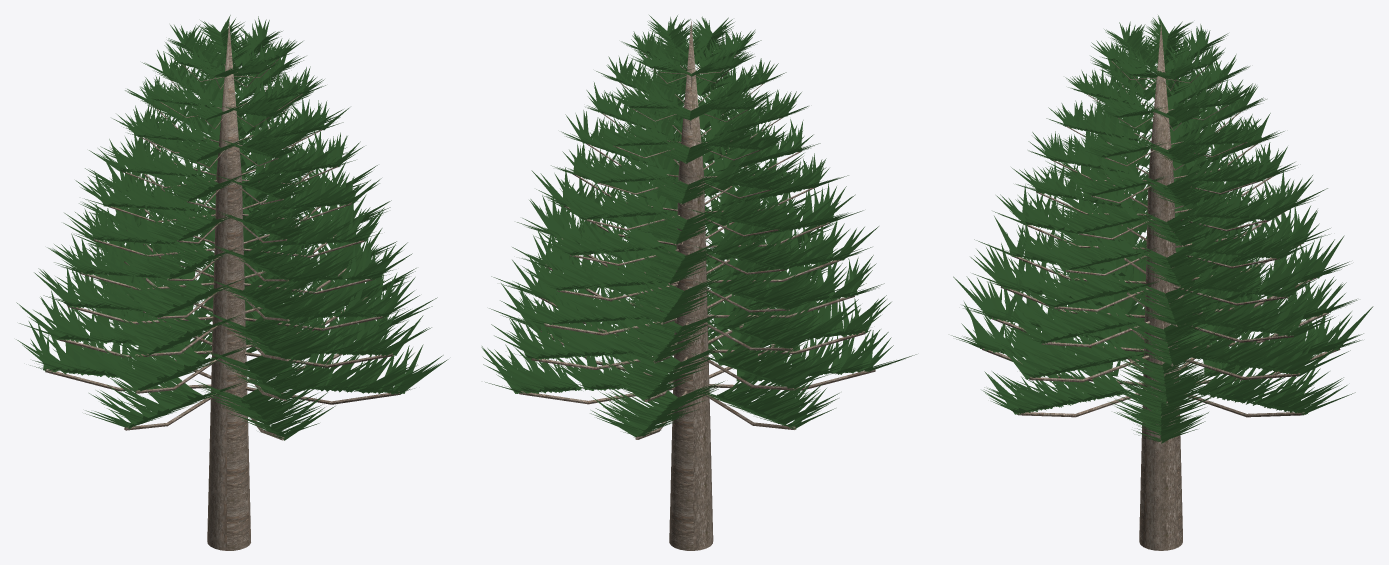
The model's file is pino_jardin.glb.
3 renders of one model, left to right at view 1: azimuth 30°, elevation 25°; view 2: azimuth 150°, elevation 25°; view 3: azimuth 270°, elevation 25°, orthographic.
Visible parts, largest first — view 1: pino_jardin; view 2: pino_jardin; view 3: pino_jardin.
Part boxes in pixels (x1,y1,x2,y2): pino_jardin: (16,15,448,550); pino_jardin: (481,15,916,550); pino_jardin: (951,15,1373,550).
Size of the model in its own units: 3.89 by 5 by 3.73.
Materials: 2 (1 with a texture image).
